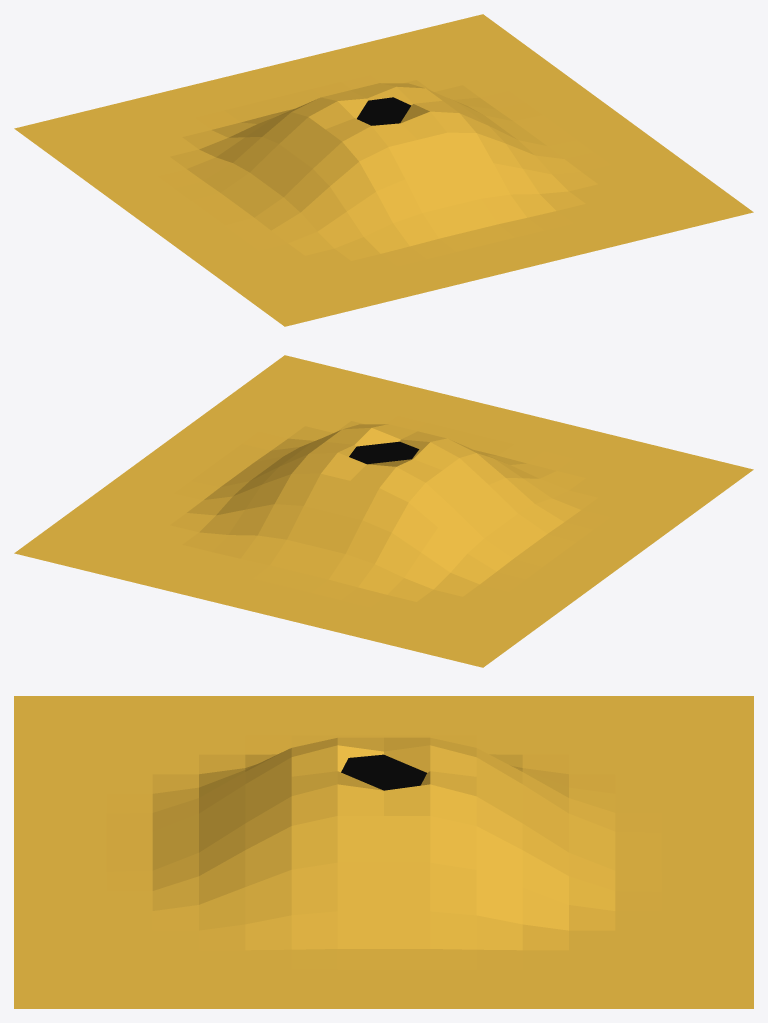
File: Hormiguero.fbx
3 views of the same model, one above another, from view 1: azimuth 30°, elevation 25°; view 2: azimuth 150°, elevation 25°; view 3: azimuth 270°, elevation 25° (orthographic). The views are drawn at different scales.
Parts seen in each view (by area): view 1: Mountain, Hoyo; view 2: Mountain, Hoyo; view 3: Mountain, Hoyo.
Boxes of the visible parts, x1,y1,x2,y2 form: Mountain: (14, 14, 753, 326); Hoyo: (357, 97, 411, 125); Mountain: (14, 355, 753, 667); Hoyo: (349, 441, 419, 464); Mountain: (14, 696, 753, 1008); Hoyo: (341, 754, 426, 790).
Size of the model in its own units: 1410 by 184 by 1410.
